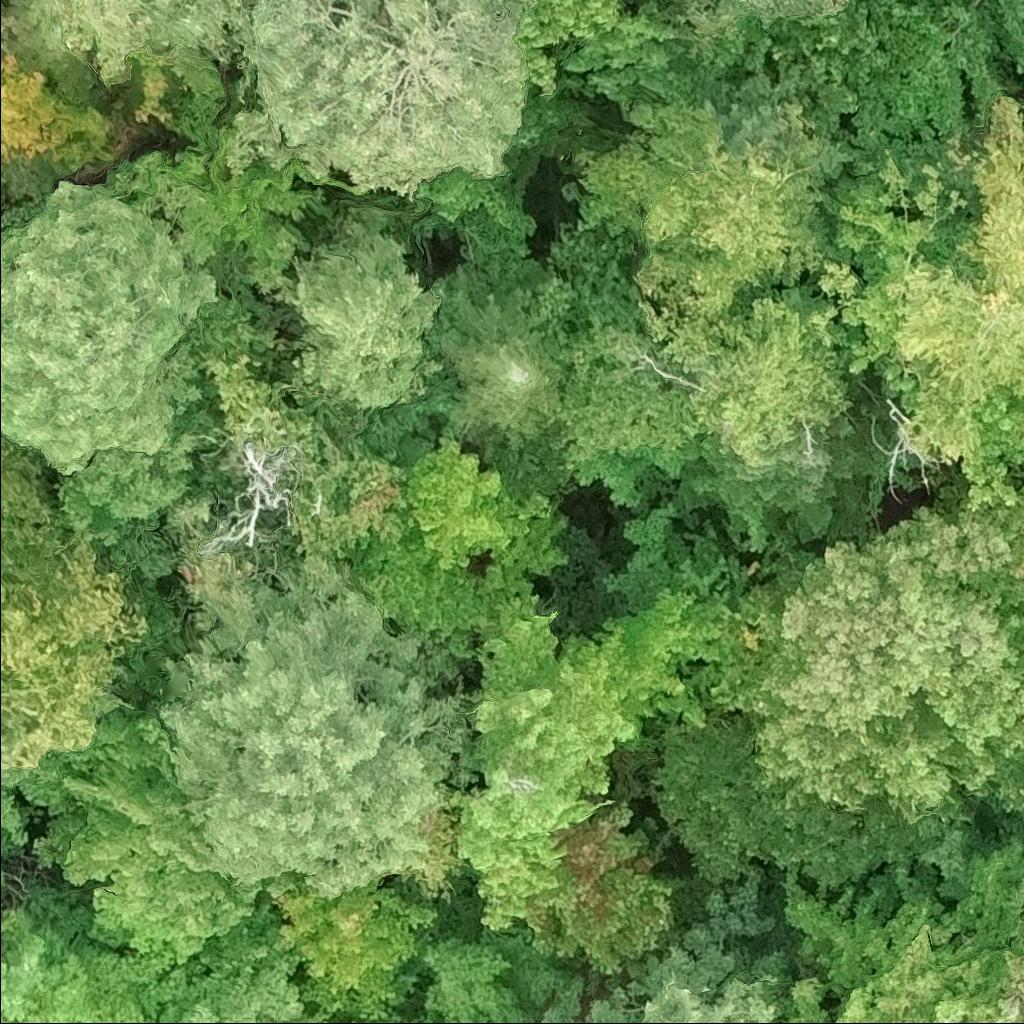crown: (156, 548, 482, 900), (703, 490, 1023, 826), (452, 562, 730, 936), (21, 713, 299, 967), (0, 173, 225, 474), (225, 0, 535, 201), (568, 97, 829, 319), (888, 92, 1023, 467), (637, 270, 850, 465), (766, 867, 1023, 1023), (817, 150, 970, 397), (266, 204, 447, 412), (587, 865, 802, 1023), (528, 801, 695, 995), (672, 408, 885, 545), (426, 254, 568, 451), (270, 880, 445, 1023), (403, 435, 570, 584), (0, 887, 173, 1023), (148, 895, 309, 1023), (22, 0, 247, 83), (343, 529, 487, 657), (521, 0, 686, 106), (0, 51, 123, 178), (419, 926, 562, 1023), (955, 393, 1023, 514), (678, 0, 846, 35), (540, 970, 597, 1023), (1001, 882, 1023, 1016), (995, 776, 1023, 830), (1008, 560, 1023, 582), (0, 931, 8, 956), (1023, 608, 1023, 617)
